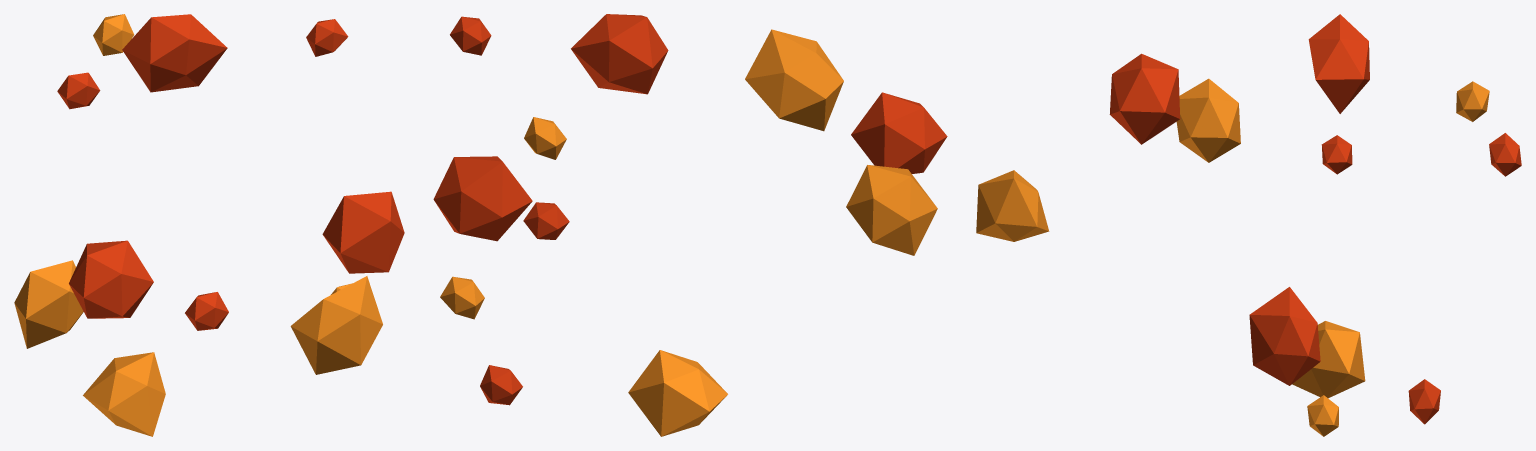
The model's file is frame_8.glb.
3 renders of one model, left to right at view 1: azimuth 30°, elevation 25°; view 2: azimuth 150°, elevation 25°; view 3: azimuth 270°, elevation 25°, orthographic. The views are drawn at different scales.
Visible parts, largest first — view 1: effect_explosion_small_frame_8; view 2: effect_explosion_small_frame_8; view 3: effect_explosion_small_frame_8.
Part boxes in pixels (box(x1,y1,x2,y2)): effect_explosion_small_frame_8: box(14, 14, 404, 436); effect_explosion_small_frame_8: box(433, 14, 947, 436); effect_explosion_small_frame_8: box(976, 14, 1521, 436).
Size of the model in its own units: 9.37 by 8.38 by 10.67.
